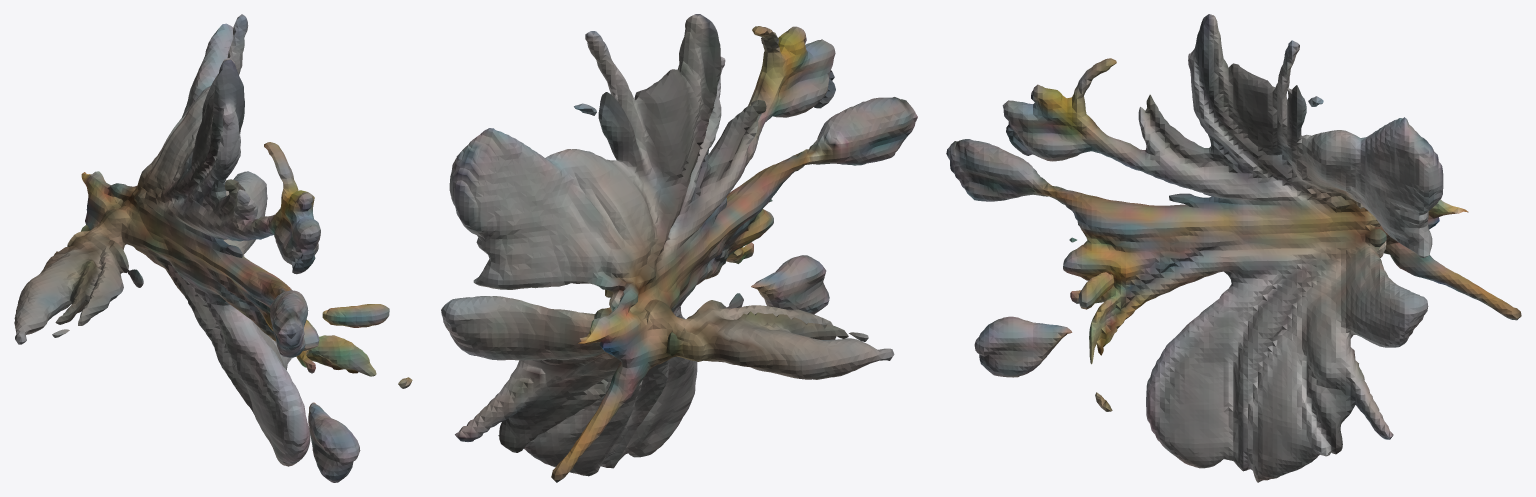
3 views of the same model, side by side, from view 1: azimuth 30°, elevation 25°; view 2: azimuth 150°, elevation 25°; view 3: azimuth 270°, elevation 25° (orthographic). The views are drawn at different scales.
Bounding box in the file's own units: 0.5436 × 0.6627 × 0.8028.
